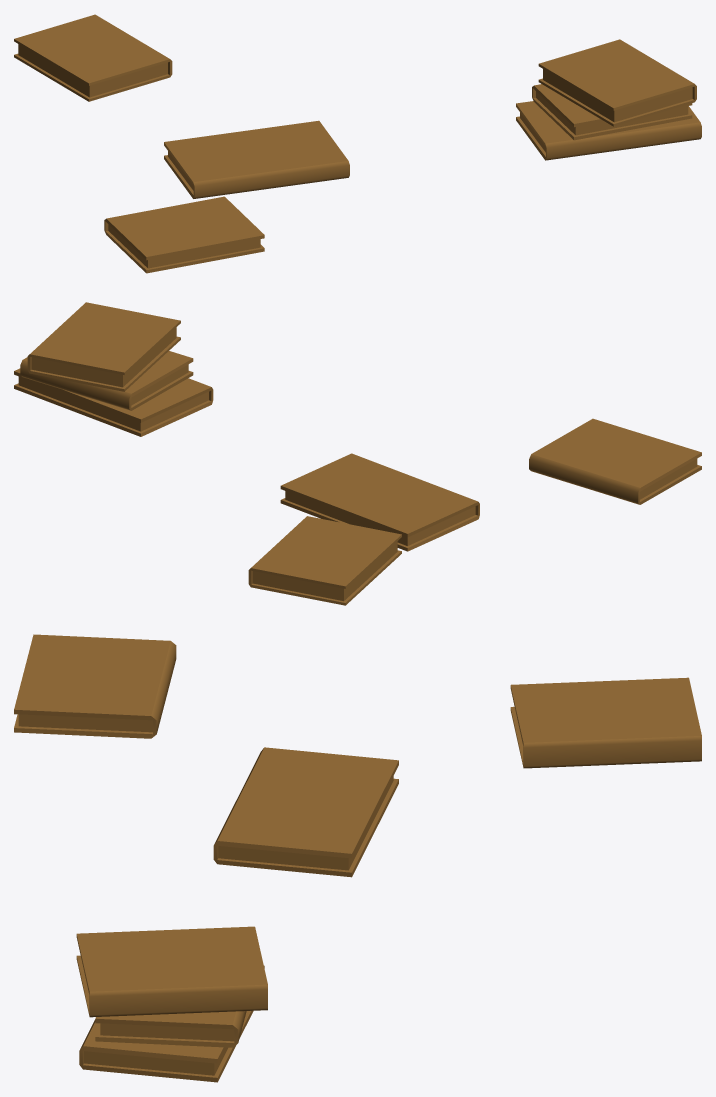
Rendered from CaptainQuarters_Books.fbx.
The picture shows the model from 3 angles, top to bottom: view 1: azimuth 30°, elevation 25°; view 2: azimuth 150°, elevation 25°; view 3: azimuth 270°, elevation 25°; orthographic projection. The views are drawn at different scales.
Parts seen in each view (by area): view 1: Book4, Book6, Book1, Book5, Book3, Book2; view 2: Book4, Book5, Book1, Book6, Book3, Book2; view 3: Book4, Book1, Book6, Book5, Book3, Book2.
Boxes of the visible parts, x1,y1,x2,y2 form: Book4: (164, 120, 349, 198); Book6: (14, 14, 172, 101); Book1: (538, 39, 696, 126); Book5: (104, 196, 264, 273); Book3: (516, 101, 701, 160); Book2: (532, 84, 692, 140); Book4: (280, 453, 479, 551); Book5: (529, 418, 701, 504); Book1: (27, 302, 180, 391); Book6: (248, 516, 401, 605); Book3: (14, 368, 213, 436); Book2: (20, 351, 193, 410); Book4: (213, 747, 398, 877); Book1: (76, 926, 267, 1017); Book6: (510, 677, 701, 768); Book5: (14, 634, 176, 738); Book3: (79, 965, 264, 1082); Book2: (95, 1011, 246, 1047).
Size of the model in its own units: 1.32 by 0.1157 by 0.9568.
